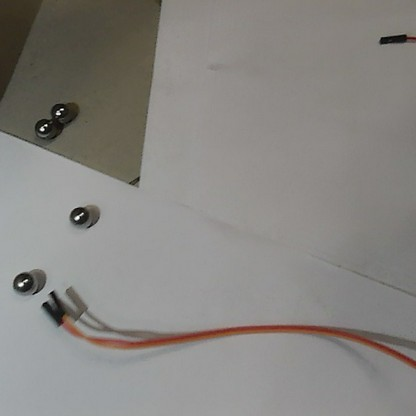ironball: (11, 269, 38, 298), (51, 100, 73, 123), (34, 116, 56, 138), (68, 204, 90, 226)
